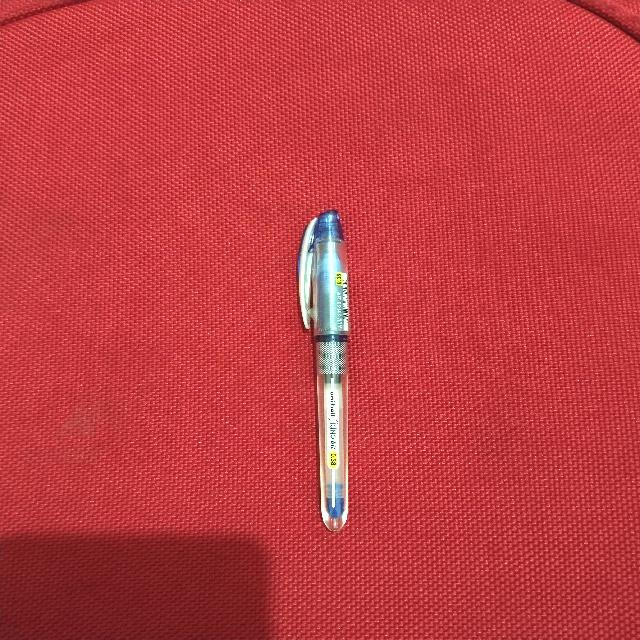pen: (298, 210, 348, 530)
